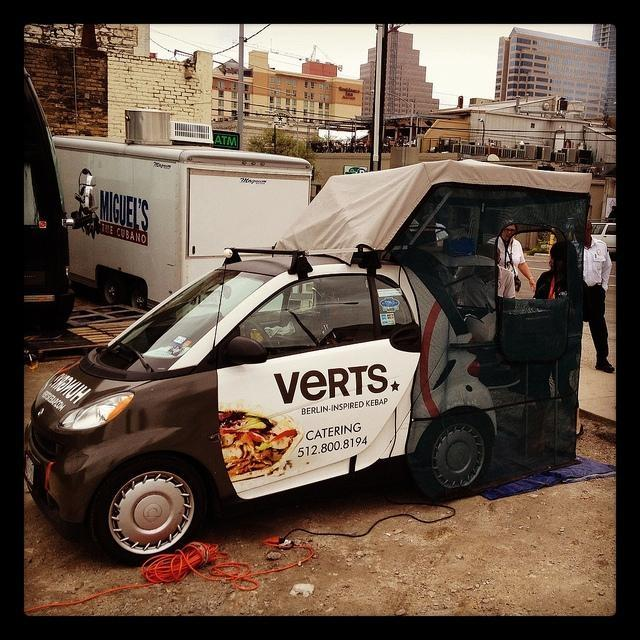car: (24, 252, 503, 566), (591, 222, 616, 252)
truck: (50, 130, 312, 304)
